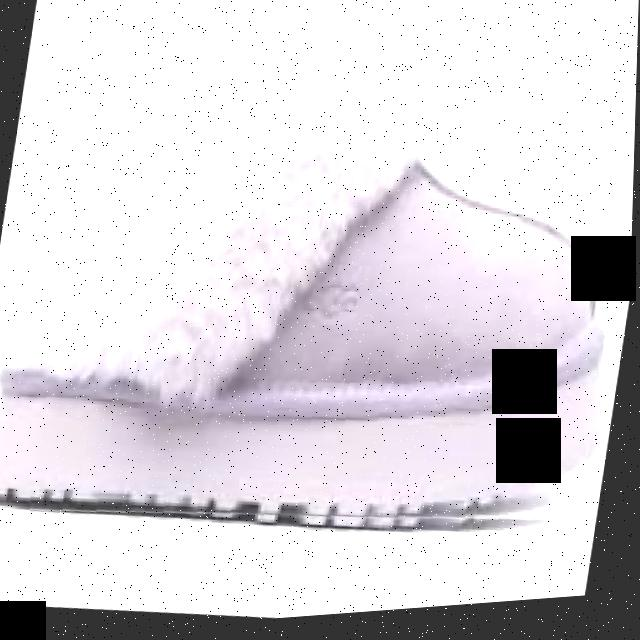shoe: (0, 62, 608, 526)
